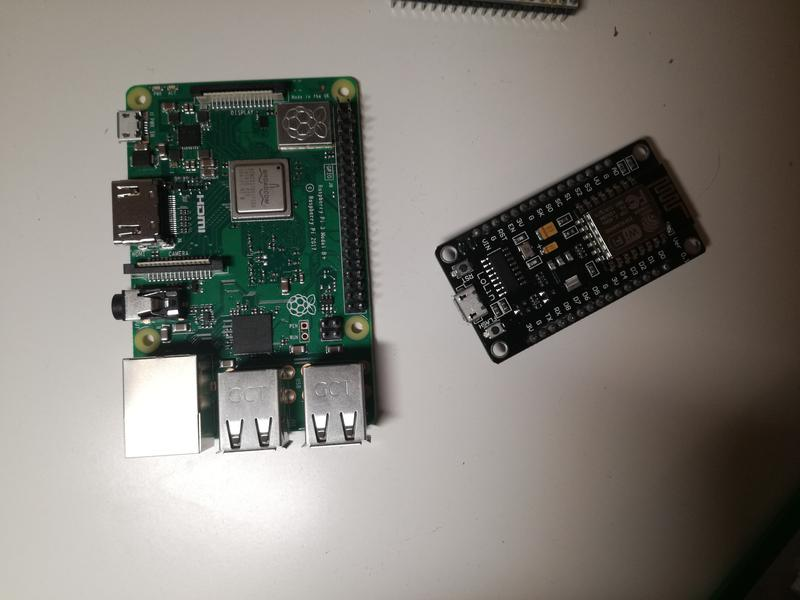ESP8266: (430, 135, 720, 367)
Raspberry_Pi_3: (103, 63, 394, 464)
